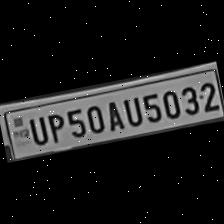0: (82, 100, 107, 135), (157, 86, 182, 120)
2: (195, 78, 220, 114)
3: (176, 82, 200, 117)
5: (61, 105, 88, 140), (138, 89, 164, 124)
A: (102, 96, 126, 134)
P: (44, 109, 68, 145)
U: (24, 112, 50, 147), (119, 93, 144, 128)
